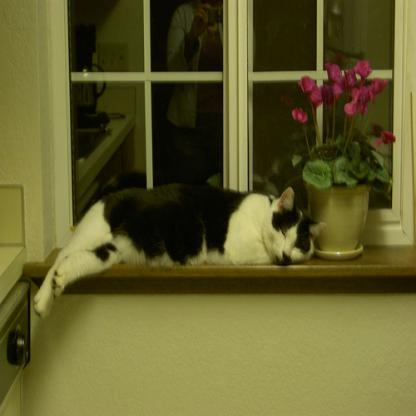cat: (32, 185, 327, 321)
pottedplant: (290, 57, 396, 260)
